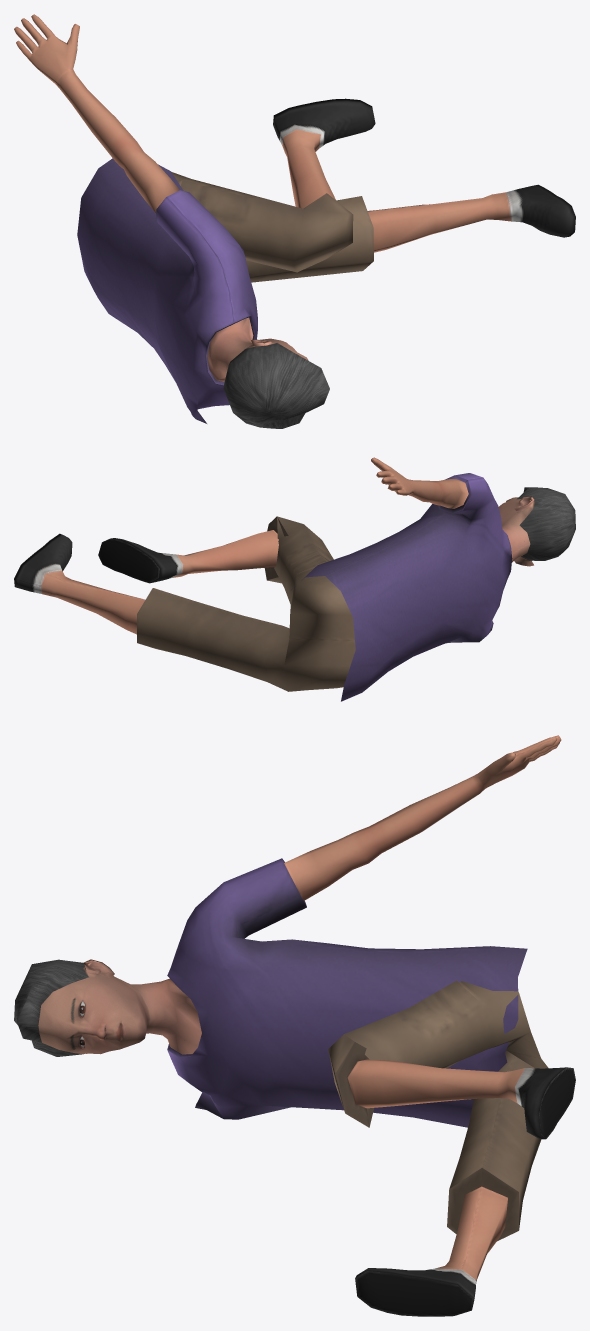
The model's file is man_seated_waving.glb.
3 renders of one model, top to bottom at view 1: azimuth 30°, elevation 25°; view 2: azimuth 150°, elevation 25°; view 3: azimuth 270°, elevation 25°, orthographic. The views are drawn at different scales.
Parts seen in each view (by area): view 1: world; view 2: world; view 3: world.
Part boxes in pixels (box(x1,y1,x2,y2)): world: box(14, 14, 575, 428); world: box(14, 457, 575, 701); world: box(14, 735, 575, 1316).
Size of the model in its own units: 1.1 by 0.6666 by 0.9596.
1 material, 1 textured.
